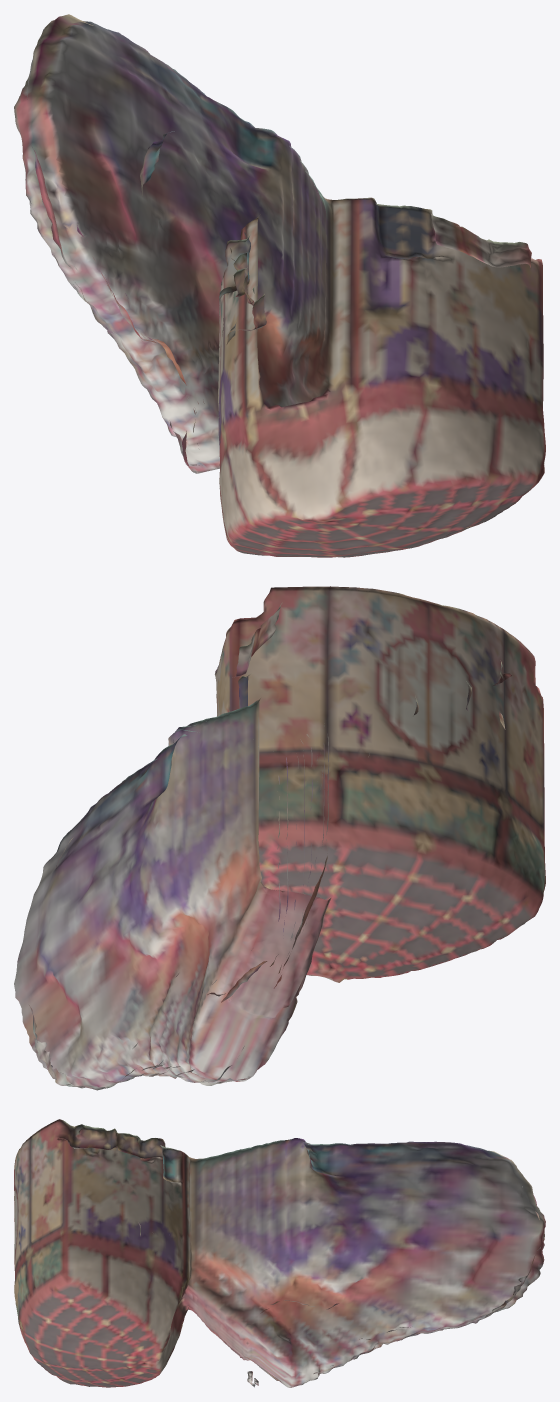
The model's file is collider.glb.
3 views of the same model, one above another, from view 1: azimuth 30°, elevation 25°; view 2: azimuth 150°, elevation 25°; view 3: azimuth 270°, elevation 25° (orthographic). The views are drawn at different scales.
Parts seen in each view (by area): view 1: world; view 2: world; view 3: world.
Boxes of the visible parts, bbox=[...] form: world: bbox=[14, 14, 545, 557]; world: bbox=[14, 586, 545, 1090]; world: bbox=[14, 1119, 545, 1387].
Bounding box in the file's own units: 3.89 × 4.19 × 8.54.
